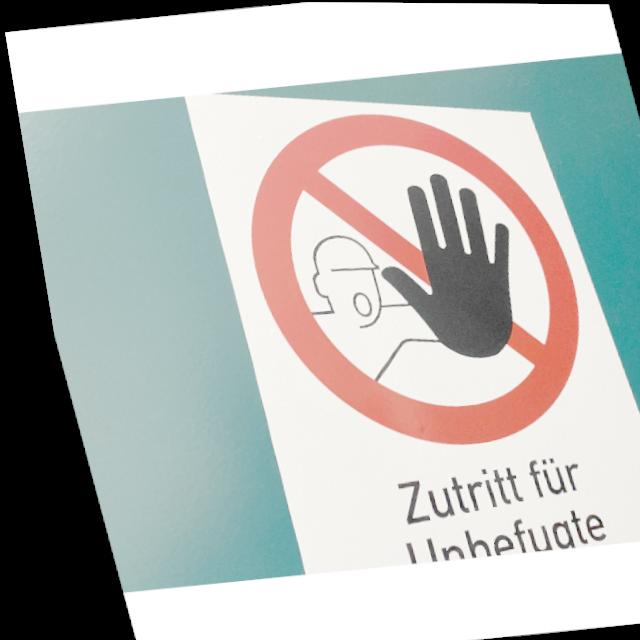No access for unauthorized persons: (207, 95, 603, 463)
